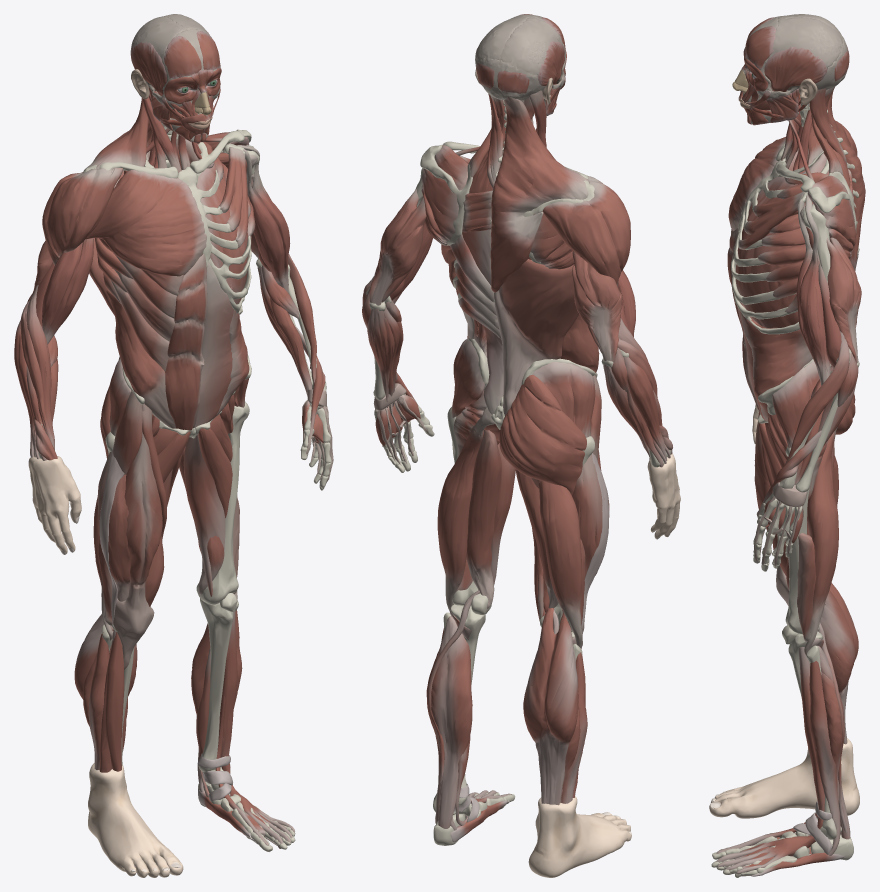
The model's file is ecorche_-_anatomy_study.glb.
3 views of the same model, side by side, from view 1: azimuth 30°, elevation 25°; view 2: azimuth 150°, elevation 25°; view 3: azimuth 270°, elevation 25° (orthographic).
Visible parts, largest first — view 1: Object_4, Object_5, Object_6, Object_9, Object_11, Object_7; view 2: Object_4, Object_5, Object_6, Object_9, Object_11, Object_7; view 3: Object_5, Object_4, Object_6, Object_9, Object_11, Object_7.
Boxes of the visible parts, x1,y1,x2,y2 form: Object_4: (20,14,321,838); Object_5: (14,16,323,867); Object_6: (21,16,333,851); Object_9: (21,123,332,851); Object_11: (28,456,183,877); Object_7: (22,16,322,845); Object_4: (362,14,663,816); Object_5: (362,14,671,842); Object_6: (362,15,672,836); Object_9: (366,100,671,845); Object_11: (528,453,680,877); Object_7: (362,15,650,820); Object_5: (716,17,865,876); Object_4: (725,14,865,870); Object_6: (716,15,863,875); Object_9: (711,96,859,877); Object_11: (709,404,859,818); Object_7: (735,16,861,859).
Bounding box in the file's own units: 0.0101 × 0.0269 × 0.00465.
